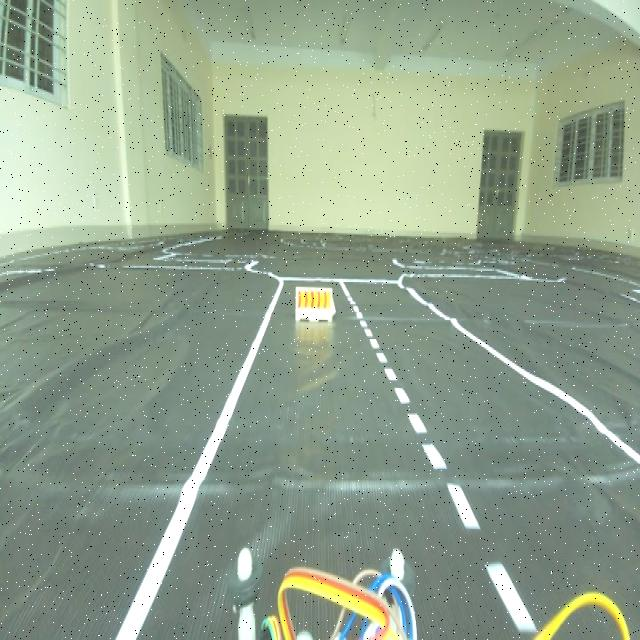roadblock: (294, 281, 340, 332)
